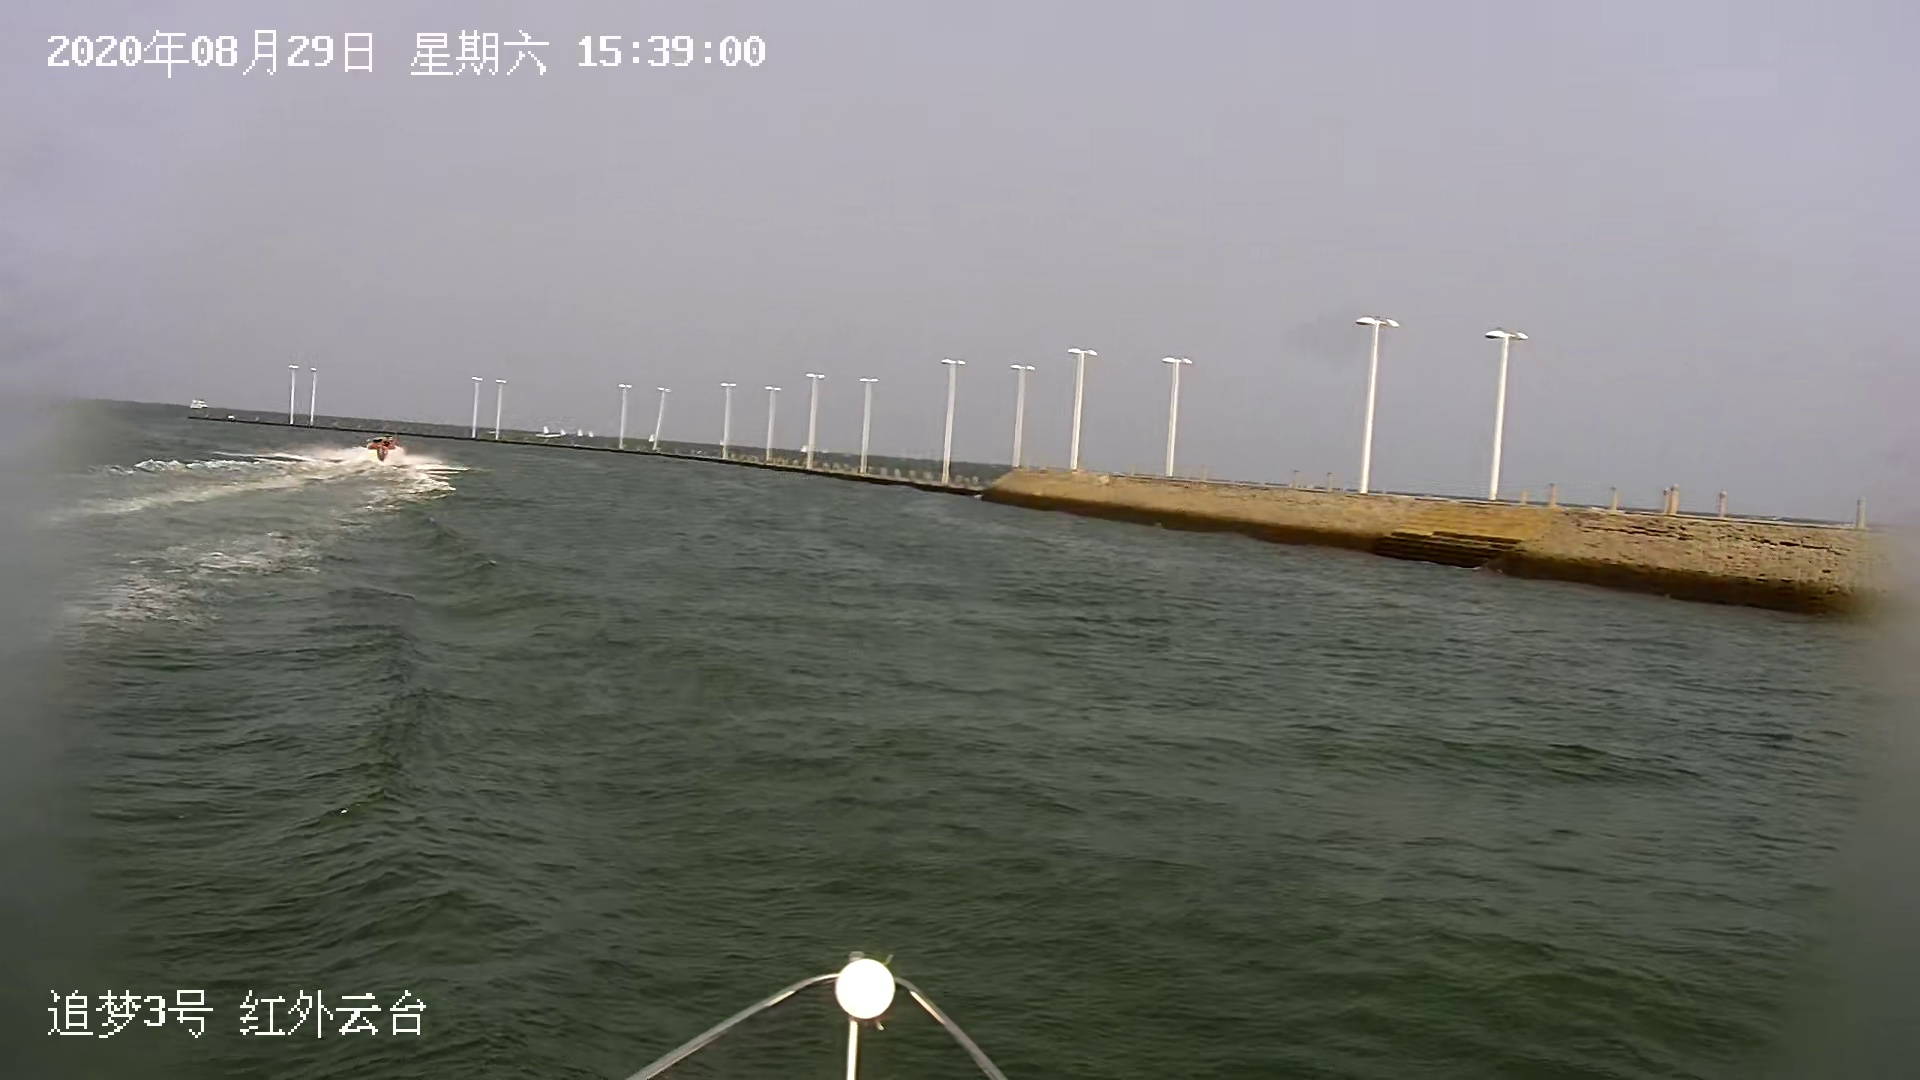barrier: (359, 433, 398, 462), (189, 397, 207, 410), (576, 426, 584, 436), (587, 429, 595, 439), (799, 443, 806, 454), (559, 429, 567, 436), (543, 426, 550, 434), (647, 433, 654, 440)
coast: (194, 313, 1915, 622)
